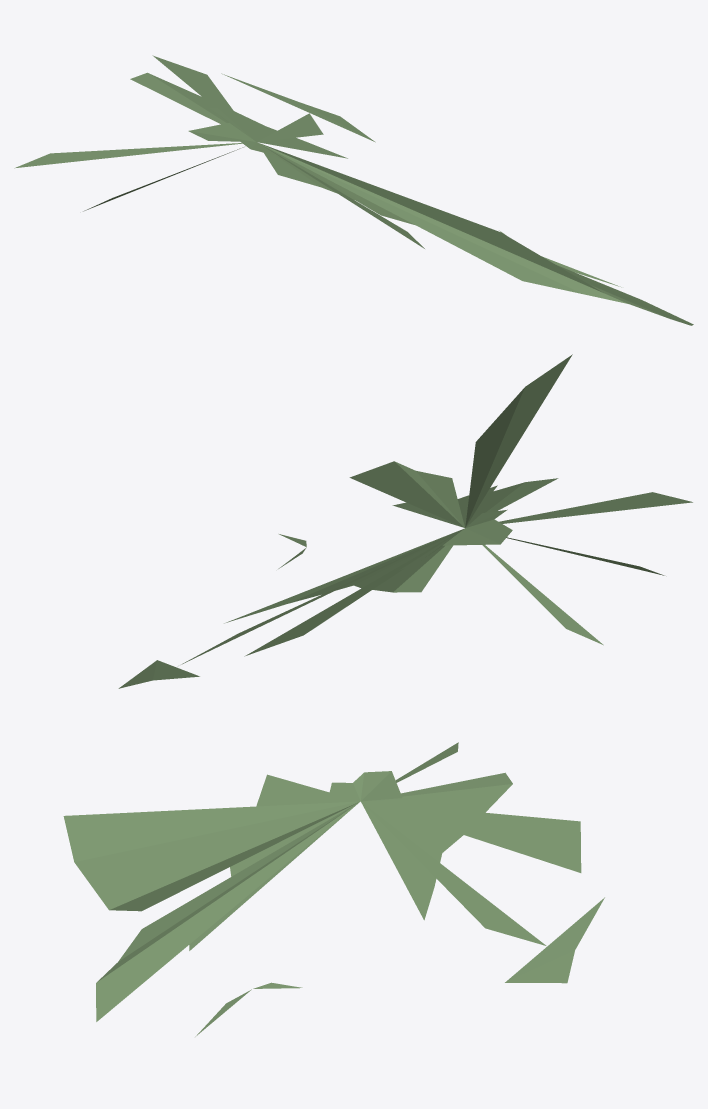
File: c_1666_17814_parks.glb
3 renders of one model, top to bottom at view 1: azimuth 30°, elevation 25°; view 2: azimuth 150°, elevation 25°; view 3: azimuth 270°, elevation 25°, orthographic. The views are drawn at different scales.
Visible parts, largest first — view 1: geometry_0; view 2: geometry_0; view 3: geometry_0.
Boxes of the visible parts, x1,y1,x2,y2 form: geometry_0: (14, 55, 693, 325); geometry_0: (118, 354, 692, 688); geometry_0: (63, 742, 604, 1036).
Size of the model in its own units: 240 by 73.53 by 295.
